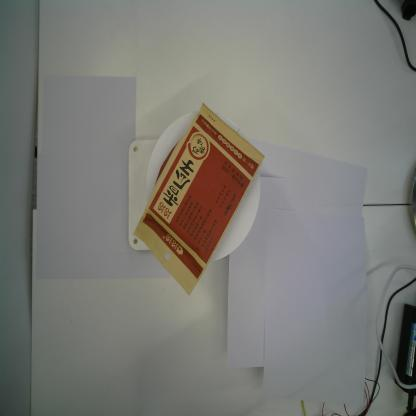Dried Food: (133, 102, 265, 296)
